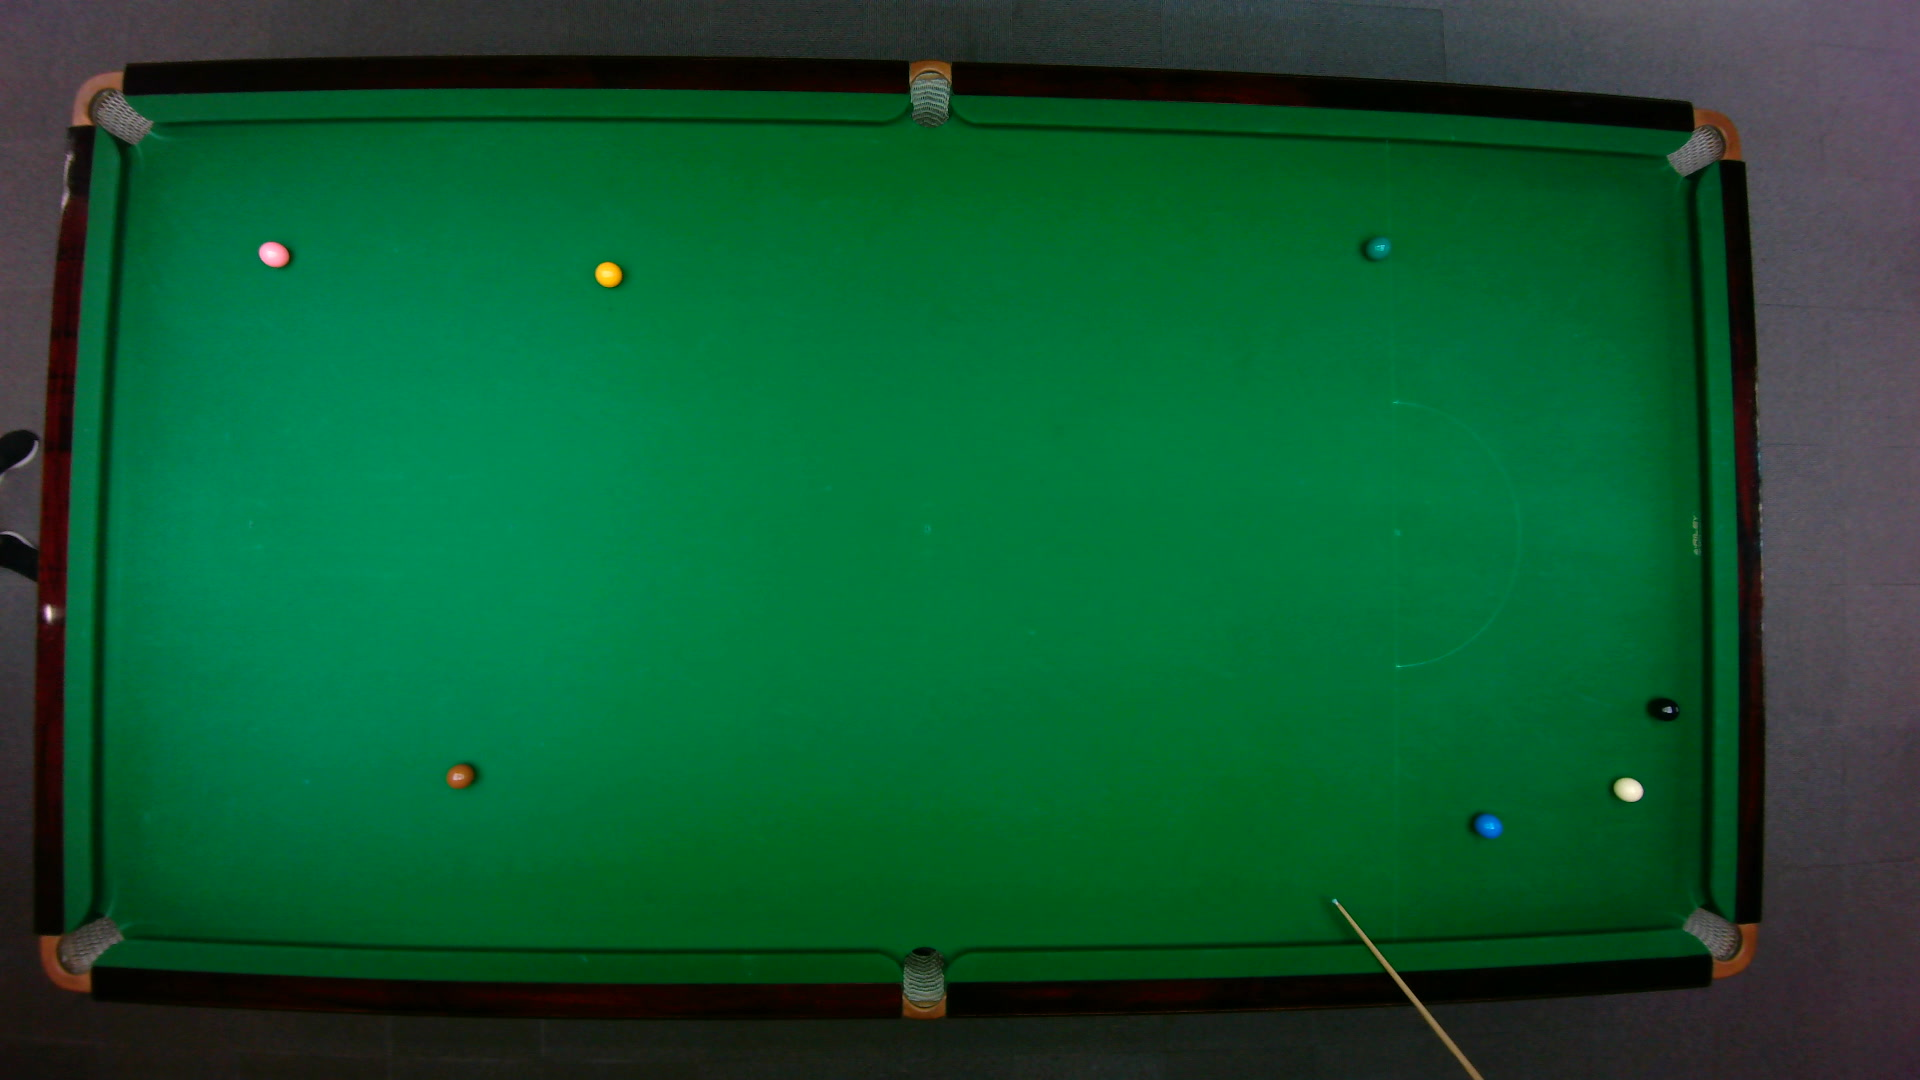bag: (37, 913, 125, 992), (69, 69, 152, 144), (1677, 905, 1756, 978), (1663, 107, 1741, 177), (901, 944, 944, 1021), (909, 58, 949, 128)
black: (1651, 696, 1680, 721)
blue: (1472, 812, 1503, 837)
brown: (444, 761, 475, 789)
cue: (1331, 898, 1481, 1079)
green: (1362, 233, 1391, 260)
pink: (256, 237, 290, 268)
white: (1611, 775, 1644, 800)
yellow: (592, 258, 622, 287)
zone: (1391, 400, 1520, 669)
